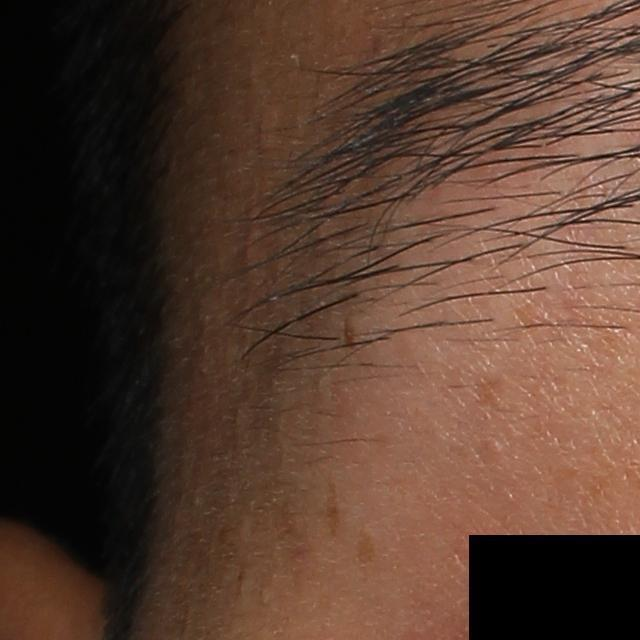melasma: (468, 368, 513, 418), (323, 477, 344, 540), (350, 527, 379, 572)
